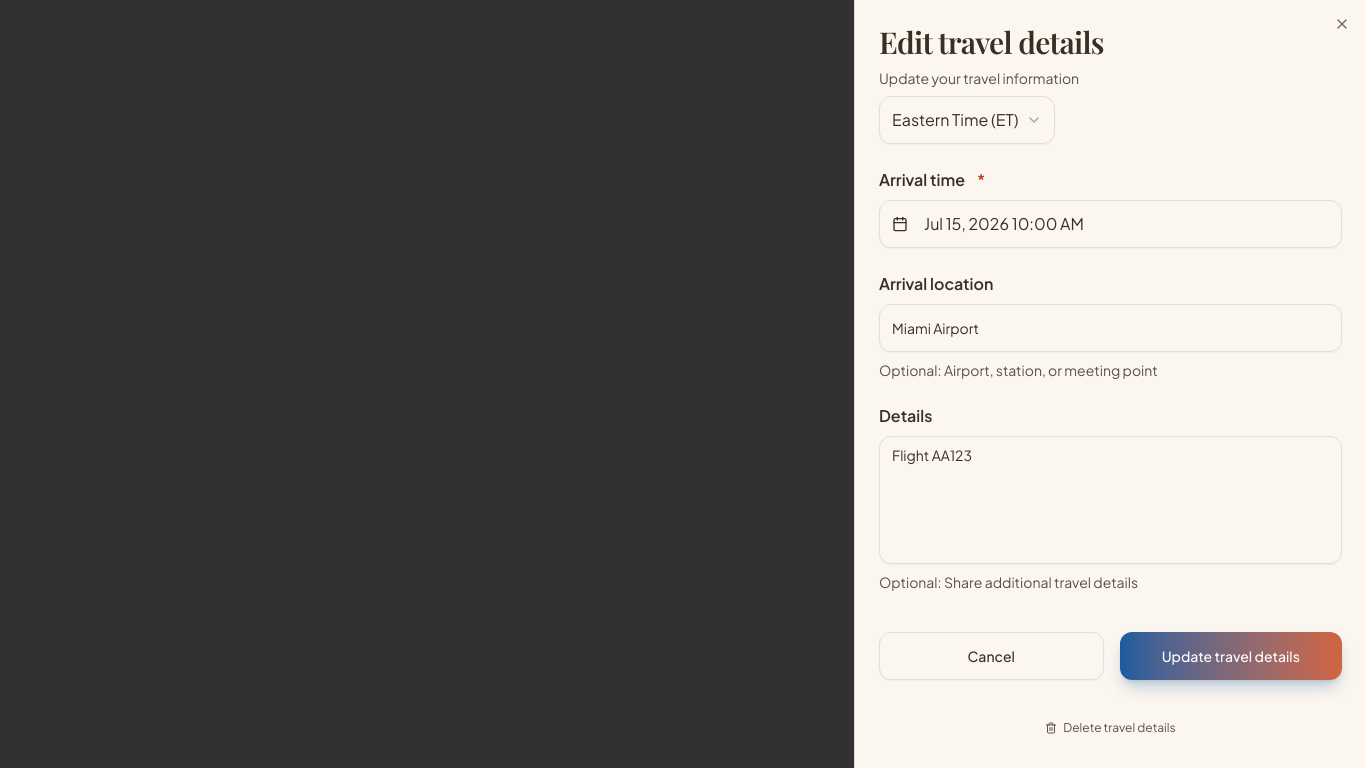
Scenario: EditMemberTravelDialog › Delete functionality › shows confirmation dialog when delete button is clicked
(page scrolled)
Click the button "Delete travel details" at (1110,728), box [1045,712,1176,744]
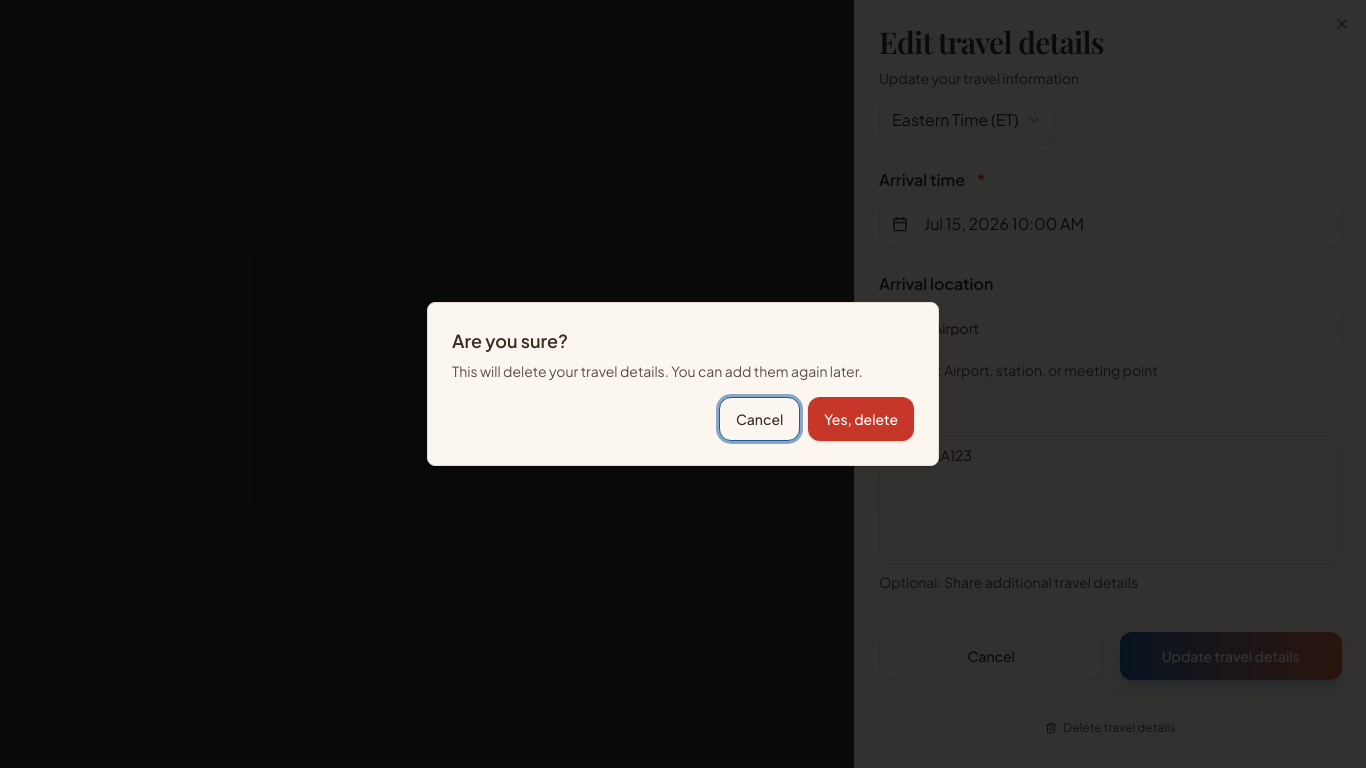
Now the heading "Are you sure?" is shown, box [452,327,568,355]
